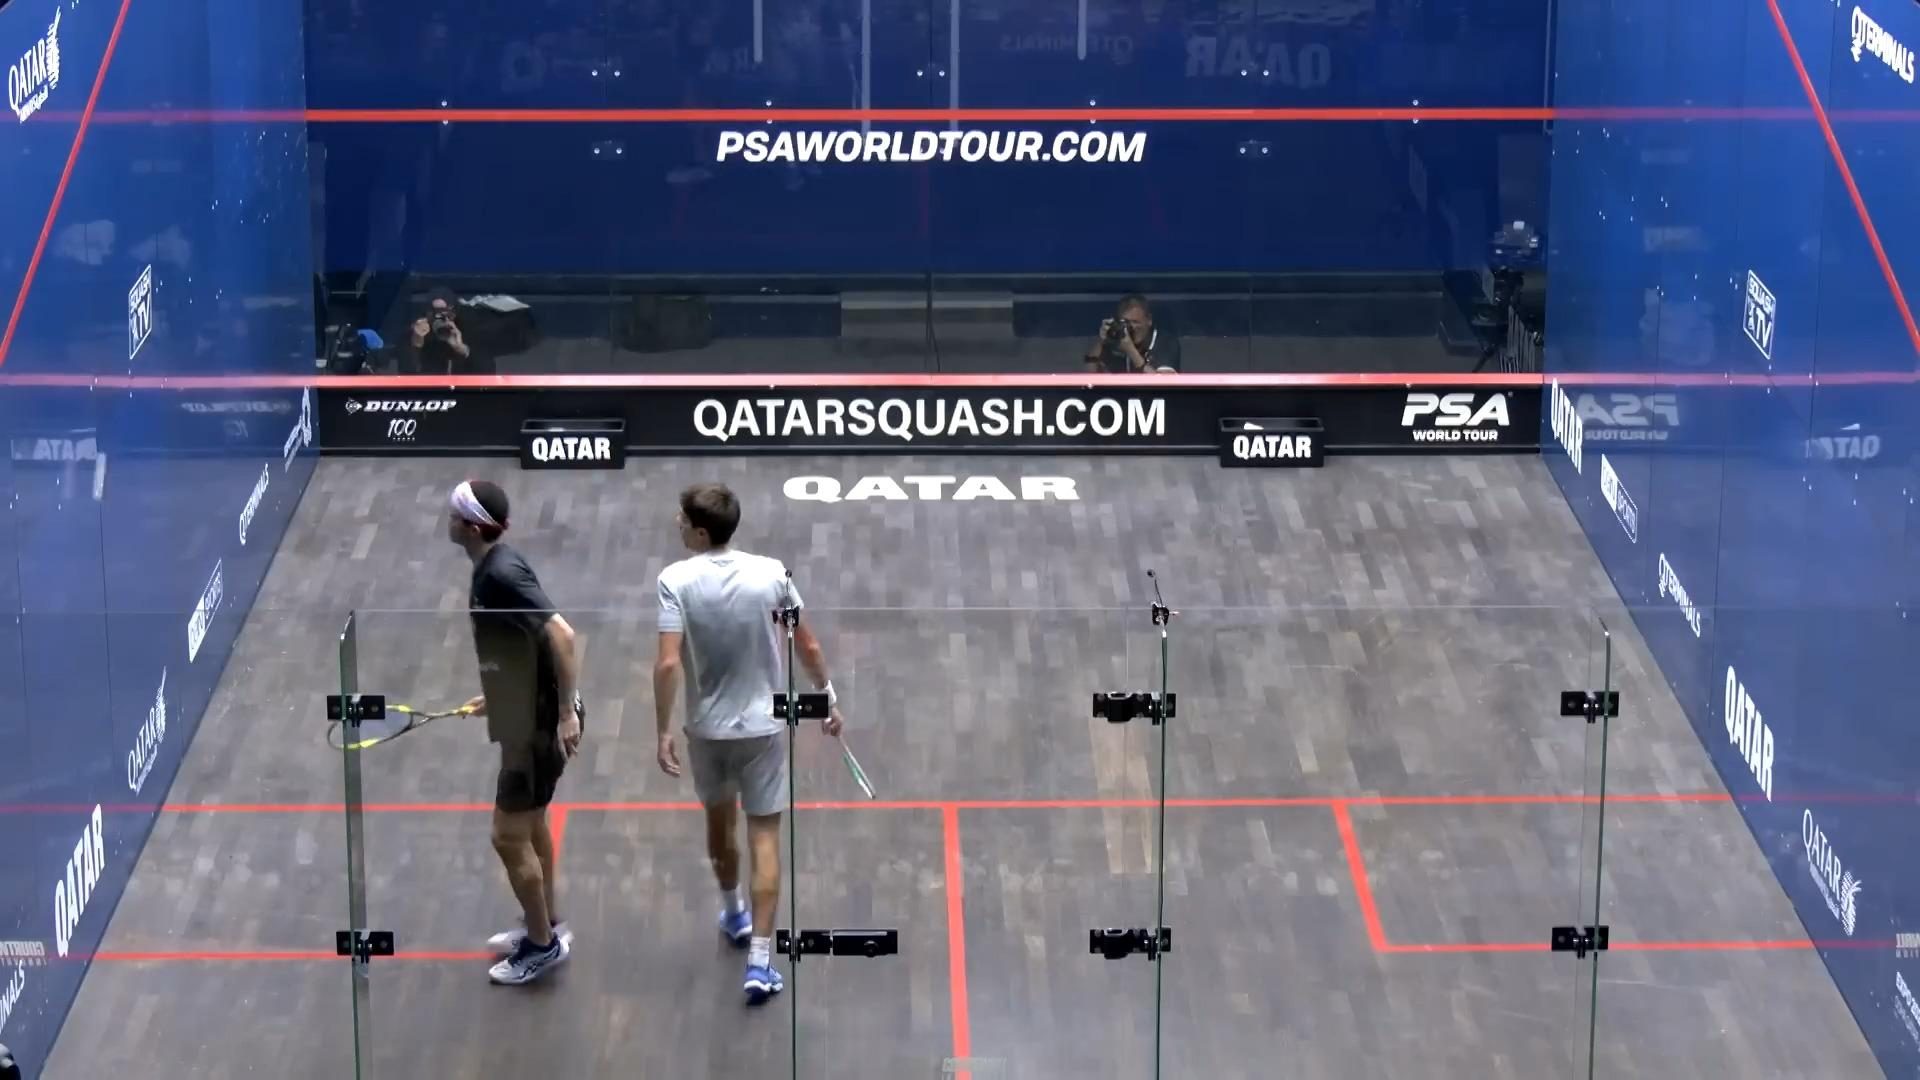Racket: (325, 699, 473, 751)
